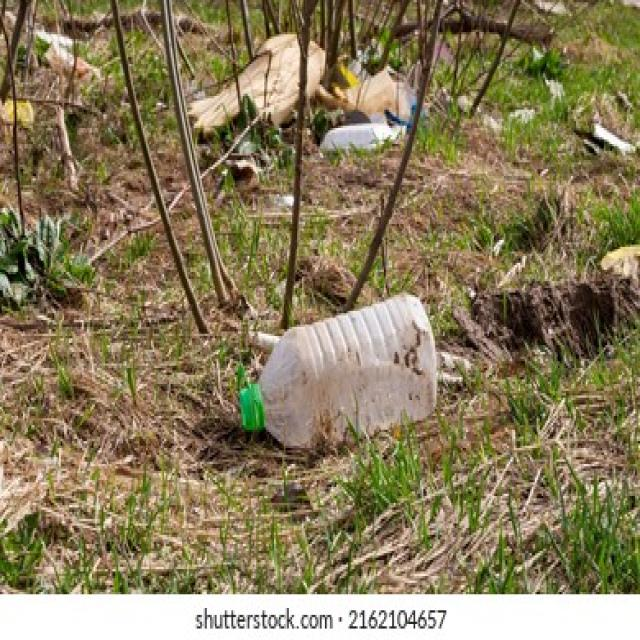plastic: (261, 308, 438, 446)
